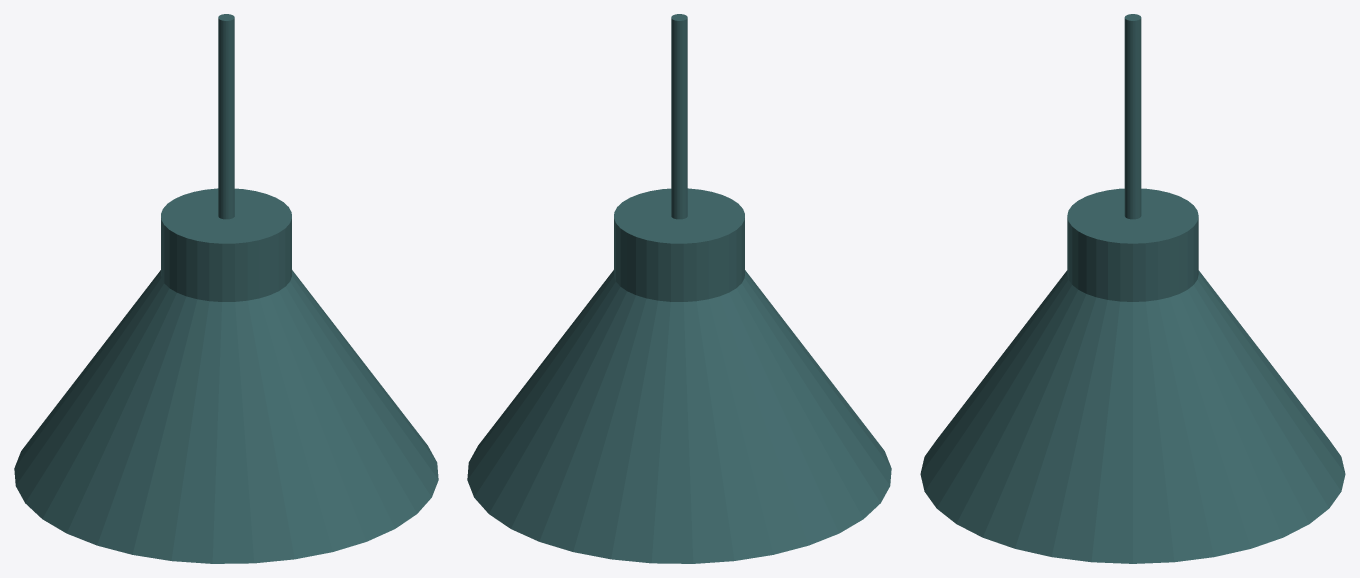
File: lamp.fbx
3 views of the same model, side by side, from view 1: azimuth 30°, elevation 25°; view 2: azimuth 150°, elevation 25°; view 3: azimuth 270°, elevation 25° (orthographic).
Visible parts, largest first — view 1: Cylinder; view 2: Cylinder; view 3: Cylinder.
Boxes of the visible parts, box(x1,y1,x2,y2) form: Cylinder: box(14, 14, 438, 563); Cylinder: box(467, 14, 891, 563); Cylinder: box(920, 14, 1345, 563).
Size of the model in its own units: 42.26 by 50.1 by 42.26.
